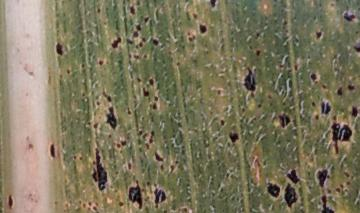tarspot: (90, 143, 109, 194), (331, 121, 352, 155), (126, 179, 144, 210), (241, 66, 258, 93), (283, 182, 298, 211), (150, 185, 168, 207), (104, 105, 118, 132), (264, 180, 281, 200), (285, 165, 302, 184), (318, 193, 334, 213), (340, 9, 358, 26), (53, 39, 68, 59), (316, 166, 330, 187), (319, 95, 332, 117), (276, 110, 291, 129), (226, 130, 241, 144), (109, 34, 122, 50), (197, 20, 209, 37), (47, 141, 57, 160), (149, 34, 161, 48), (307, 70, 319, 83), (154, 151, 165, 165), (350, 103, 359, 120), (313, 29, 325, 41), (102, 90, 113, 103), (207, 1, 219, 12), (126, 4, 137, 16), (252, 47, 264, 58), (7, 191, 14, 209), (141, 86, 151, 98), (139, 15, 151, 25), (352, 42, 360, 57), (347, 80, 355, 94), (97, 57, 106, 69), (335, 86, 344, 98), (147, 75, 156, 87), (125, 36, 134, 48), (151, 101, 160, 113), (309, 98, 318, 110), (219, 117, 227, 130), (125, 159, 133, 172), (134, 23, 143, 34), (119, 138, 128, 148), (159, 163, 167, 173), (149, 128, 156, 138)
